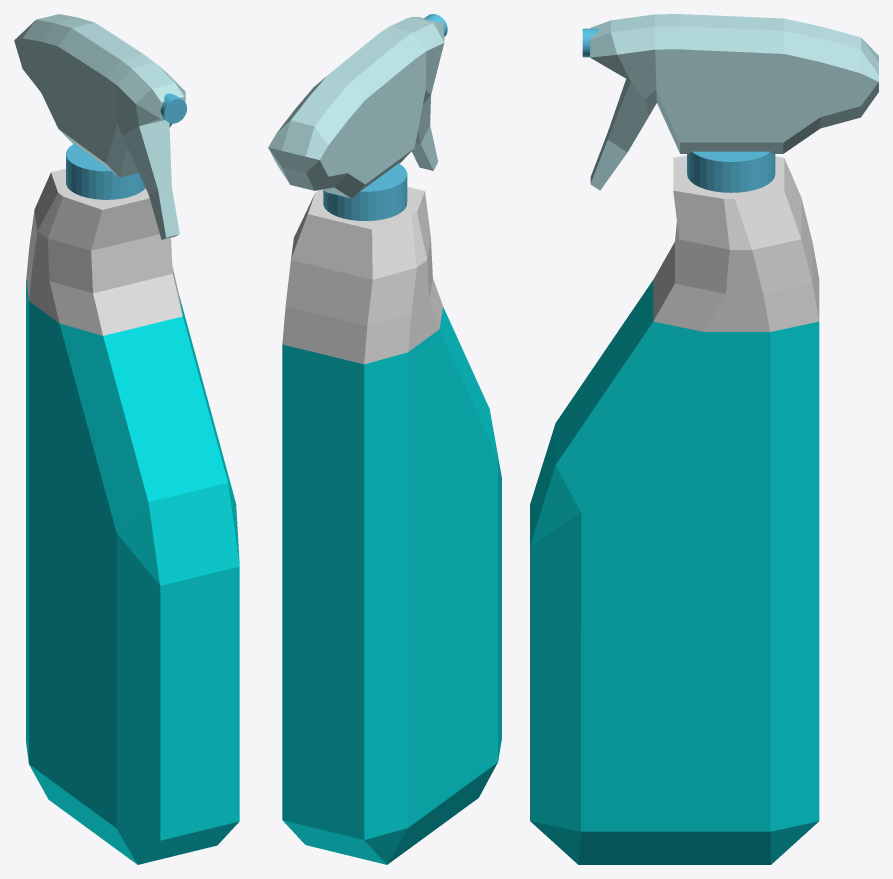
The model's file is putzmittl.fbx.
The picture shows the model from 3 angles, left to right: view 1: azimuth 30°, elevation 25°; view 2: azimuth 150°, elevation 25°; view 3: azimuth 270°, elevation 25°; orthographic projection. The views are drawn at different scales.
Visible parts, largest first — view 1: Cube; view 2: Cube; view 3: Cube.
Boxes of the visible parts, x1=… form: Cube: x1=14, y1=14, x2=239, y2=864; Cube: x1=268, y1=14, x2=501, y2=864; Cube: x1=530, y1=14, x2=878, y2=864.
Size of the model in its own units: 5.15 by 31.45 by 12.06.
